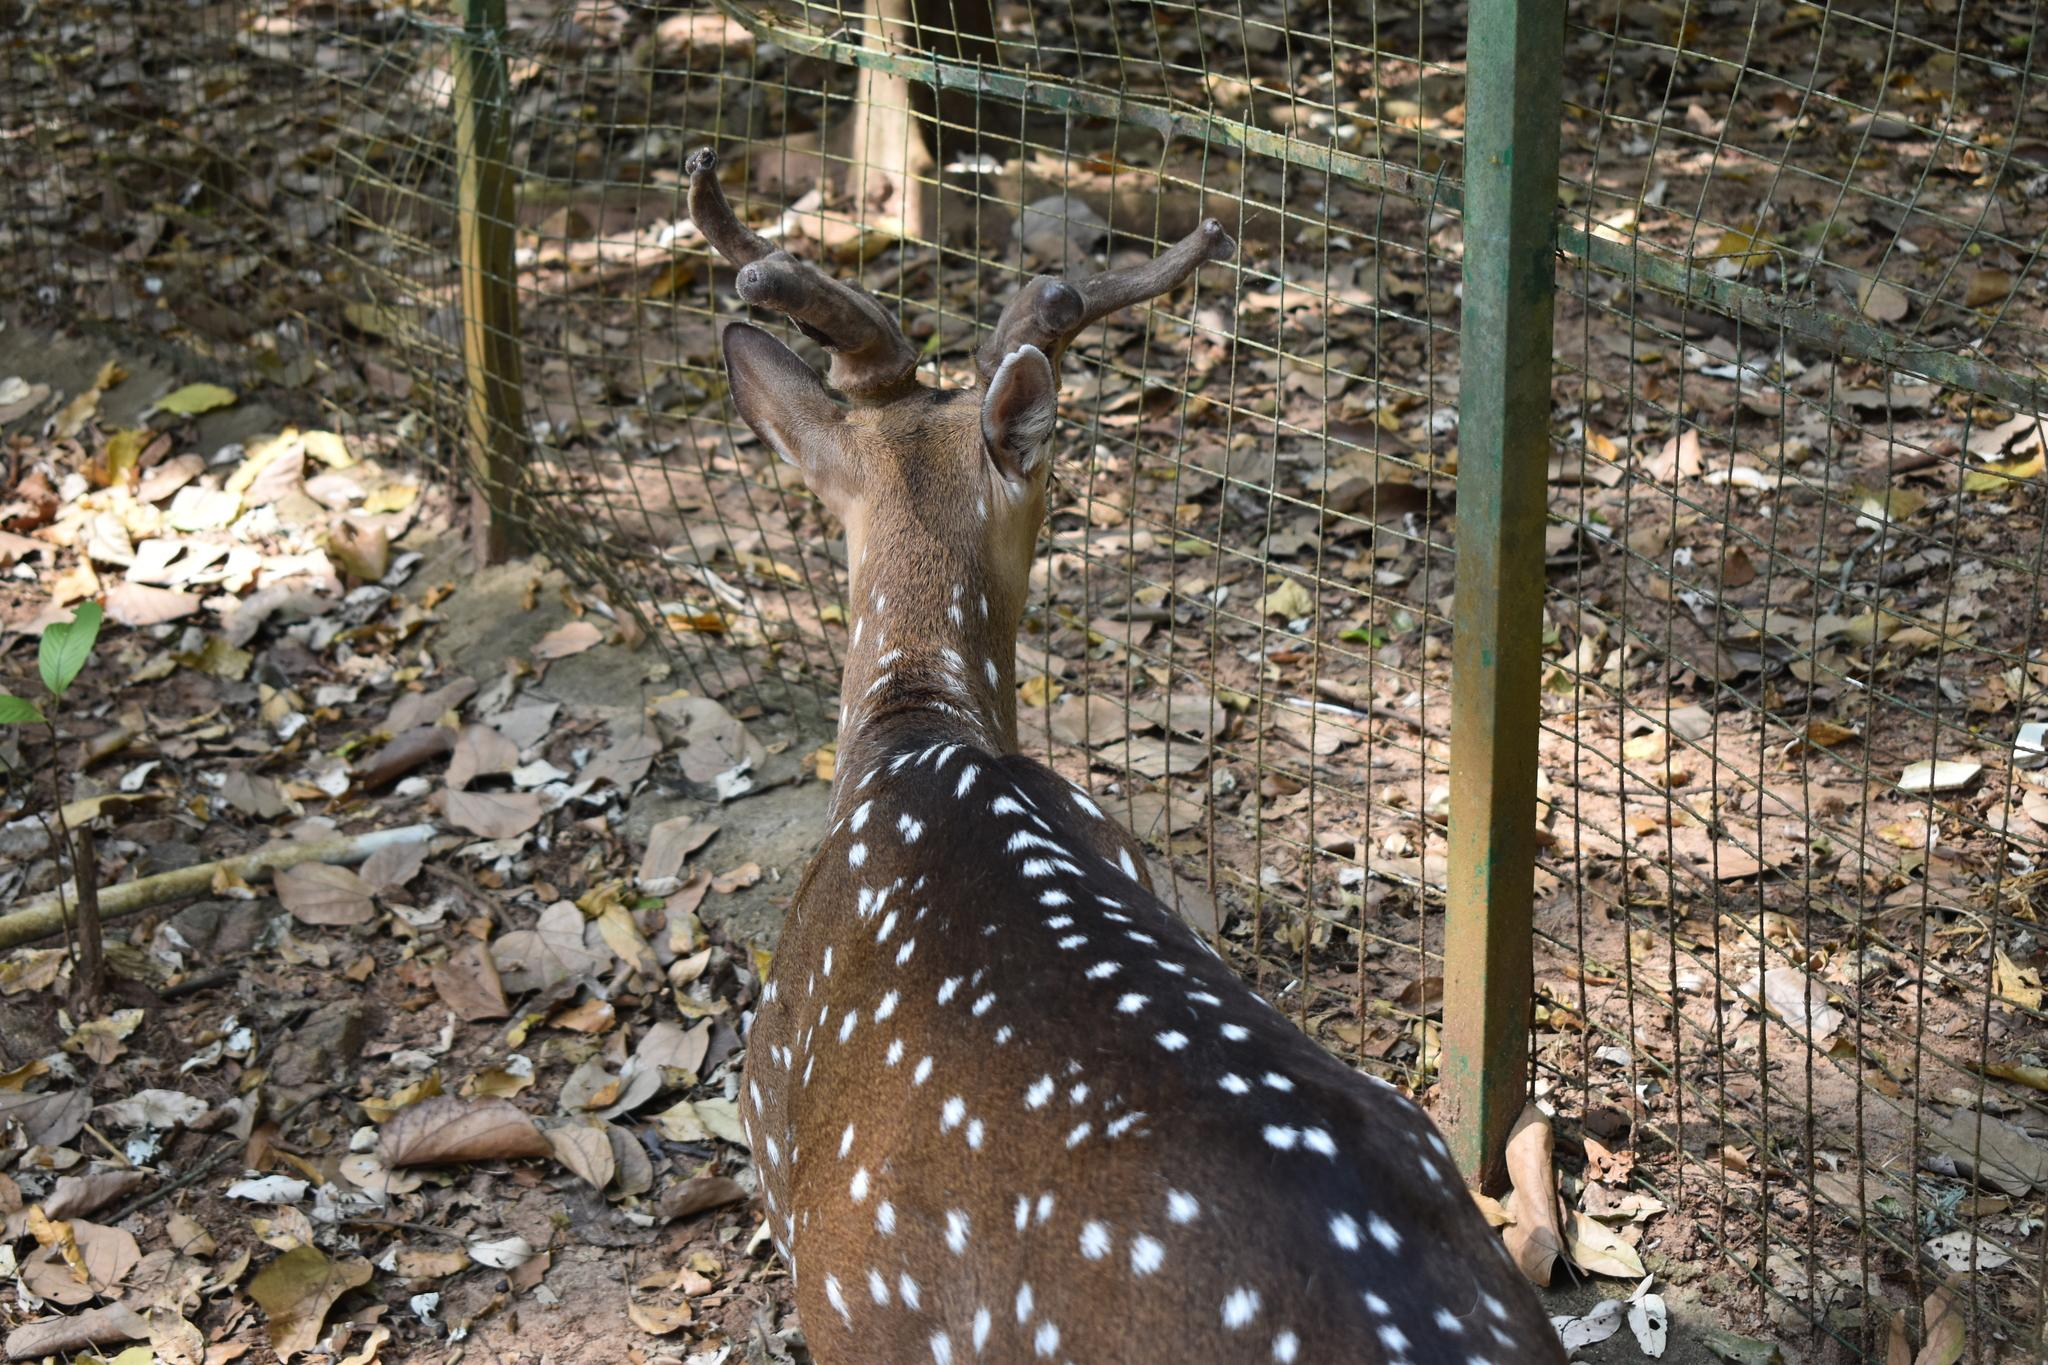Deer: (687, 152, 1562, 1360)
